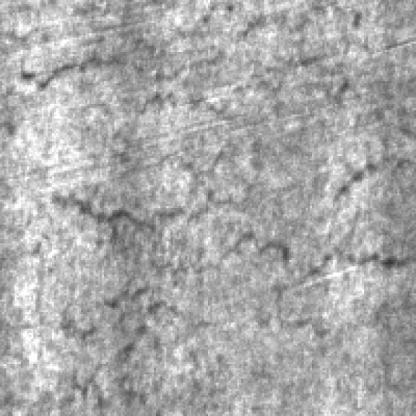crazing: (52, 156, 410, 274), (14, 43, 350, 126), (58, 278, 219, 404)
